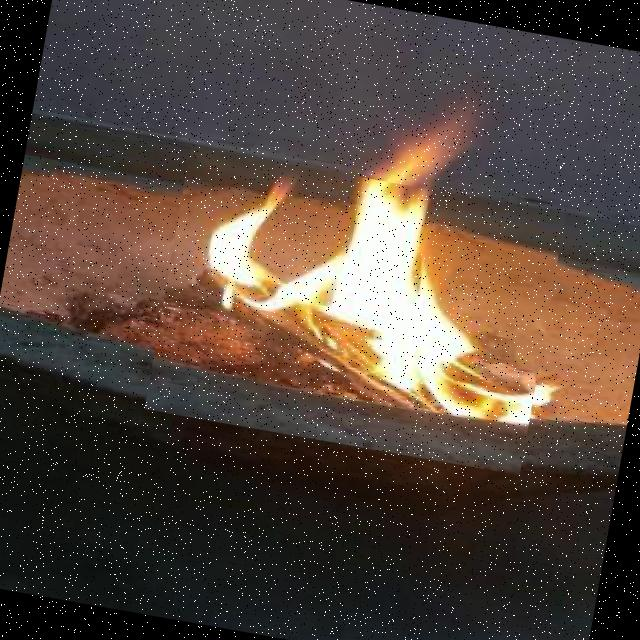fire: (144, 147, 565, 475)
